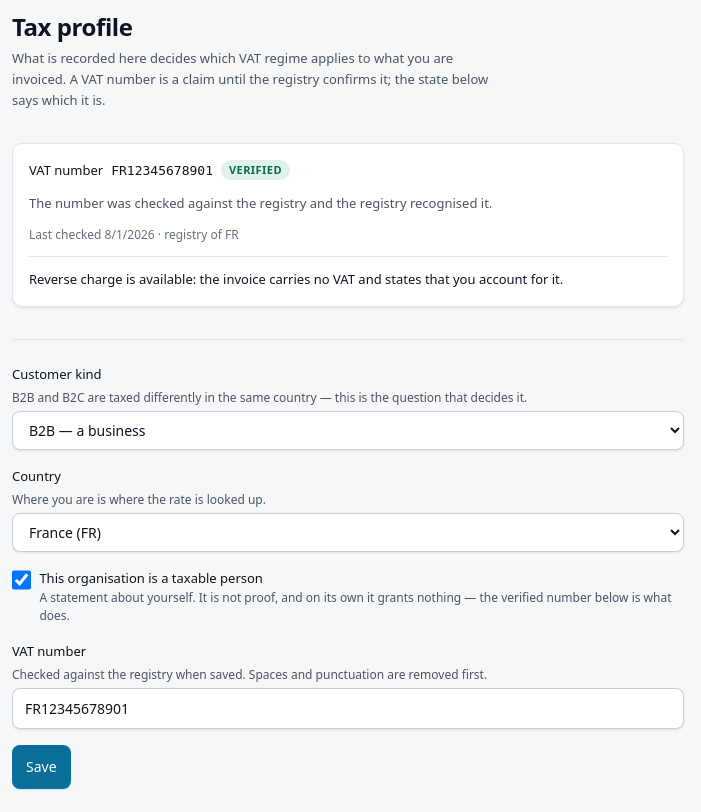
Scenario: saving › sends what was typed and shows what the check concluded
expect the text with test id "vat-number" reads "FR12345678901": met, box [111, 163, 213, 178]
Replace the text in the field labelled "VAT number" with "FR 999 999 999 99" at {"x": 348, "y": 708}, box [12, 688, 684, 729]
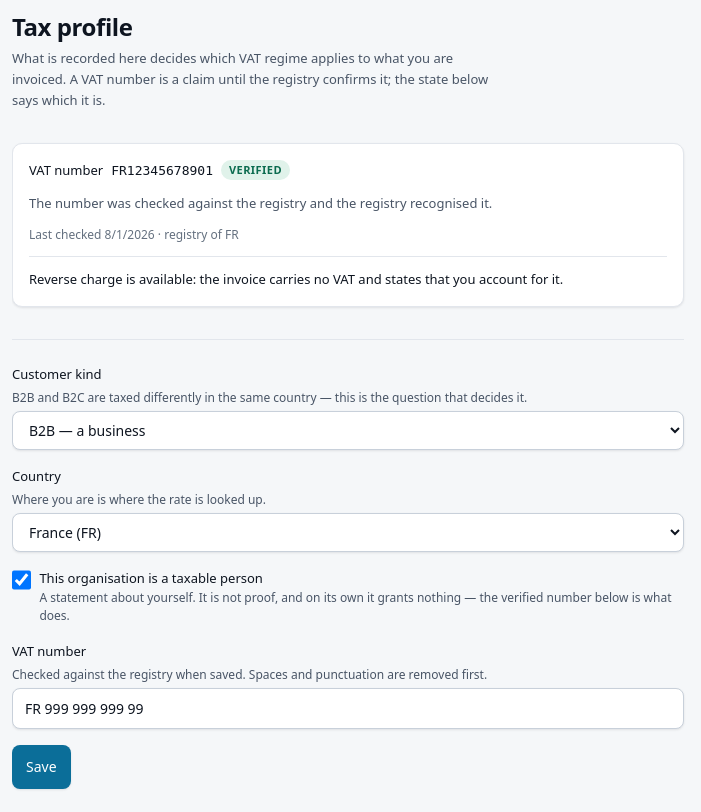
Click the button "Save" at {"x": 41, "y": 767}, box [12, 745, 71, 789]
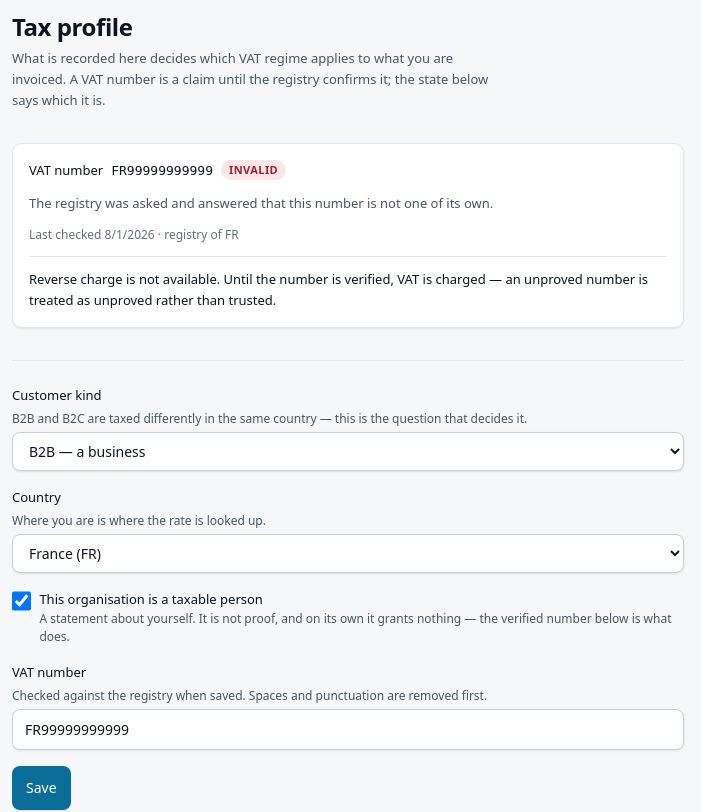
expect the text with test id "vat-status" reads "Invalid": met, box [229, 162, 278, 177]
expect the text with test id "vat-number" reads "FR99999999999": met, box [111, 163, 213, 178]
